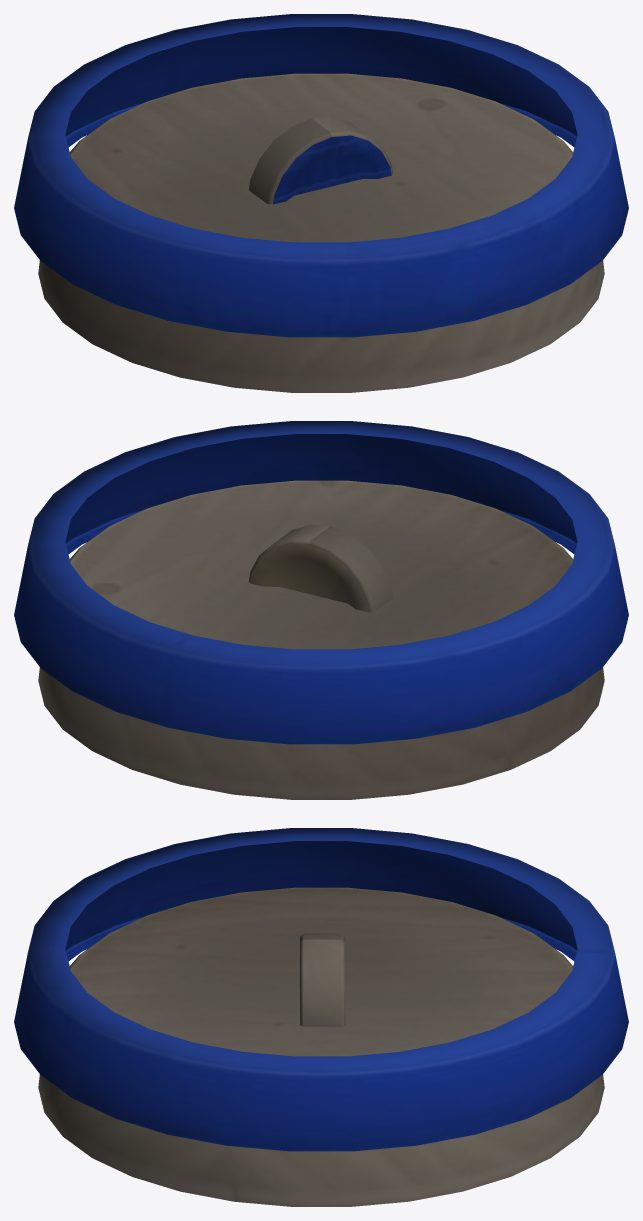
Rendered from alliance.glb.
The picture shows the model from 3 angles, top to bottom: view 1: azimuth 30°, elevation 25°; view 2: azimuth 150°, elevation 25°; view 3: azimuth 270°, elevation 25°; orthographic projection.
Visible parts, largest first — view 1: Pedestal_Alliance; view 2: Pedestal_Alliance; view 3: Pedestal_Alliance.
Boxes of the visible parts, x1=… form: Pedestal_Alliance: x1=14, y1=14, x2=628, y2=392; Pedestal_Alliance: x1=14, y1=421, x2=628, y2=799; Pedestal_Alliance: x1=14, y1=828, x2=628, y2=1206.
Size of the model in its own units: 2.83 by 0.7566 by 2.85.
Materials: 1 (1 with a texture image).
